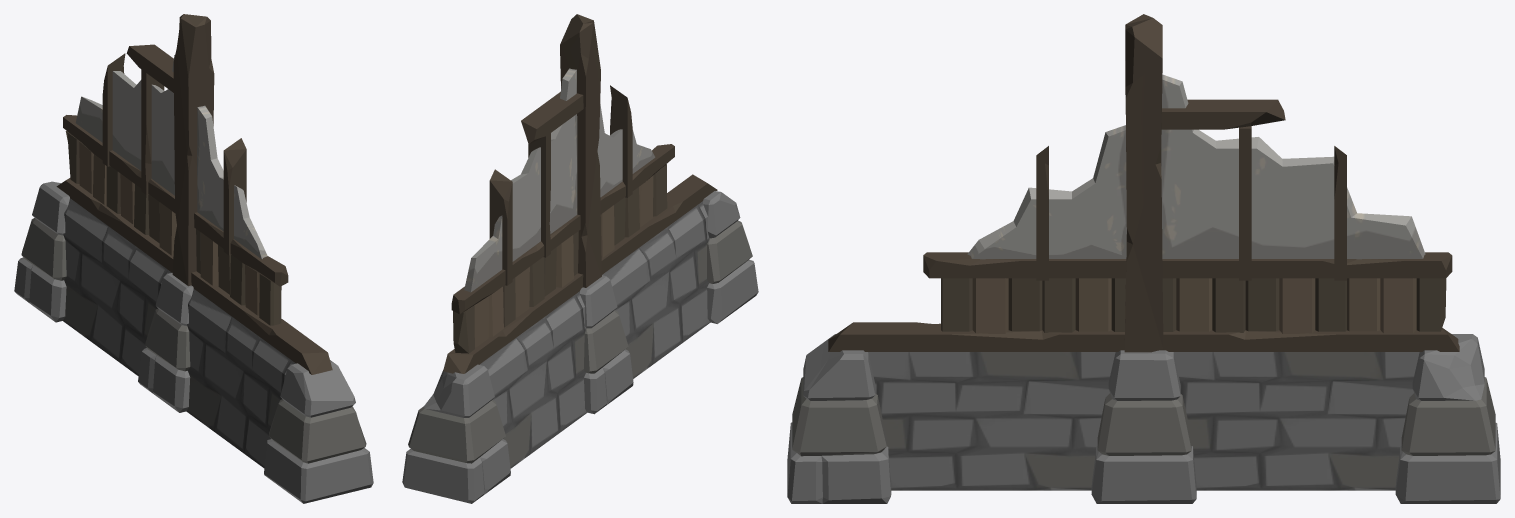
Rendered from kingdom_SM_Prop_Destroyed_House_Piece_06.gltf.
The picture shows the model from 3 angles, left to right: view 1: azimuth 30°, elevation 25°; view 2: azimuth 150°, elevation 25°; view 3: azimuth 270°, elevation 25°; orthographic projection. The views are drawn at different scales.
Parts seen in each view (by area): view 1: SM_Prop_Destroyed_House_Piece_06; view 2: SM_Prop_Destroyed_House_Piece_06; view 3: SM_Prop_Destroyed_House_Piece_06.
Boxes of the visible parts, box(x1,y1,x2,y2) form: SM_Prop_Destroyed_House_Piece_06: box(14, 14, 373, 503); SM_Prop_Destroyed_House_Piece_06: box(402, 14, 758, 503); SM_Prop_Destroyed_House_Piece_06: box(787, 14, 1500, 503).
Size of the model in its own units: 0.8525 by 4.2 by 5.86.
1 material, 1 textured.
